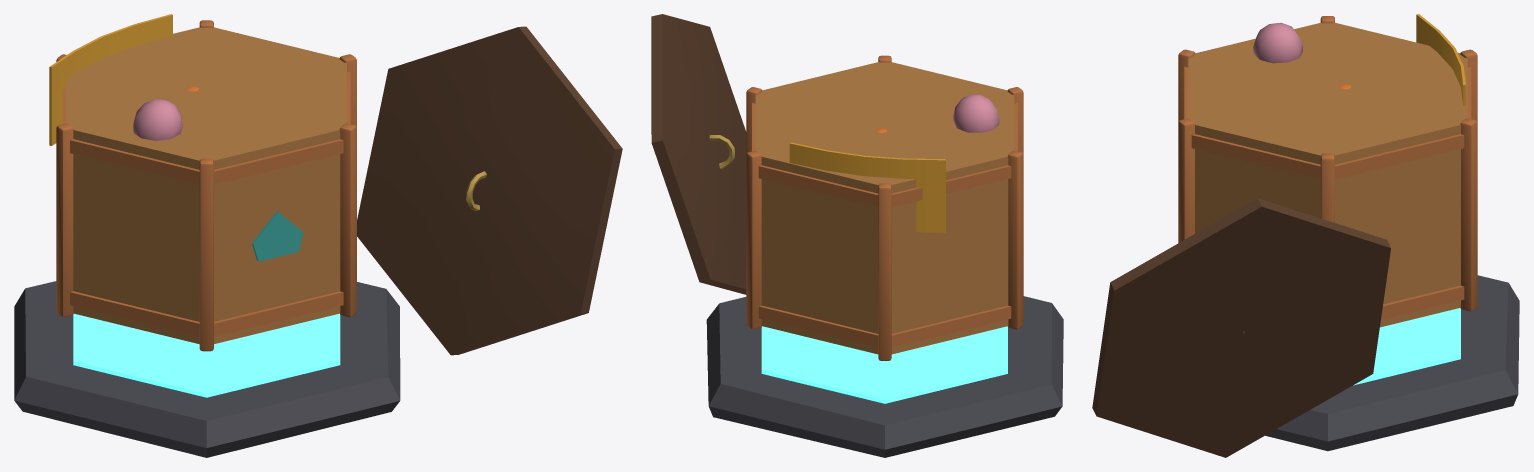
The model's file is deco_floating_crate_open.fbx.
3 views of the same model, side by side, from view 1: azimuth 30°, elevation 25°; view 2: azimuth 150°, elevation 25°; view 3: azimuth 270°, elevation 25° (orthographic). The views are drawn at different scales.
Parts seen in each view (by area): view 1: FloatingCrate_Open_Body, FloatingCrate_Open_Lid, FloatingCrate_Open_Pad, FloatingCrate_Open_PadGlow, FloatingCrate_Open_Contents; view 2: FloatingCrate_Open_Body, FloatingCrate_Open_Pad, FloatingCrate_Open_Lid, FloatingCrate_Open_PadGlow, FloatingCrate_Open_Contents; view 3: FloatingCrate_Open_Body, FloatingCrate_Open_Lid, FloatingCrate_Open_Pad, FloatingCrate_Open_PadGlow, FloatingCrate_Open_Contents.
Boxes of the visible parts, box(x1,y1,x2,y2) form: FloatingCrate_Open_Body: box(56, 20, 356, 351); FloatingCrate_Open_Lid: box(357, 26, 622, 355); FloatingCrate_Open_Pad: box(14, 281, 400, 457); FloatingCrate_Open_PadGlow: box(73, 313, 340, 397); FloatingCrate_Open_Contents: box(49, 14, 199, 145); FloatingCrate_Open_Body: box(746, 55, 1023, 360); FloatingCrate_Open_Pad: box(706, 296, 1063, 457); FloatingCrate_Open_Lid: box(651, 14, 746, 294); FloatingCrate_Open_PadGlow: box(761, 326, 1007, 403); FloatingCrate_Open_Contents: box(789, 94, 999, 232); FloatingCrate_Open_Body: box(1178, 16, 1477, 327); FloatingCrate_Open_Lid: box(1092, 198, 1390, 457); FloatingCrate_Open_Pad: box(1265, 275, 1519, 451); FloatingCrate_Open_PadGlow: box(1353, 308, 1460, 385); FloatingCrate_Open_Contents: box(1253, 14, 1465, 105).
Bounding box in the file's own units: 200 × 115 × 148.
